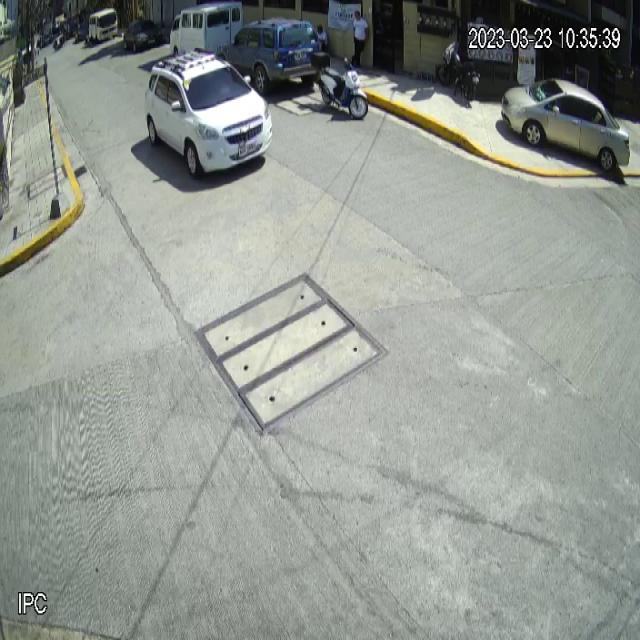Car: (144, 44, 273, 181), (501, 79, 631, 172), (217, 16, 322, 95)
Motorcycle: (311, 51, 368, 121)
Van: (170, 0, 243, 52)
